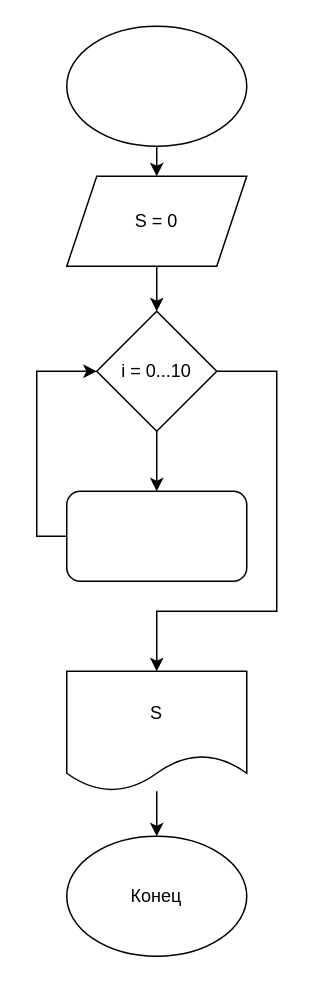
The diagram is 315 pixels wide and 983 high, and some of its shapes have lost their labels. Here are the shapes that lost their labels. From the top down, the box of each, then its label:
(65, 25, 247, 146): Начало
(65, 490, 247, 581): S = S + 1
